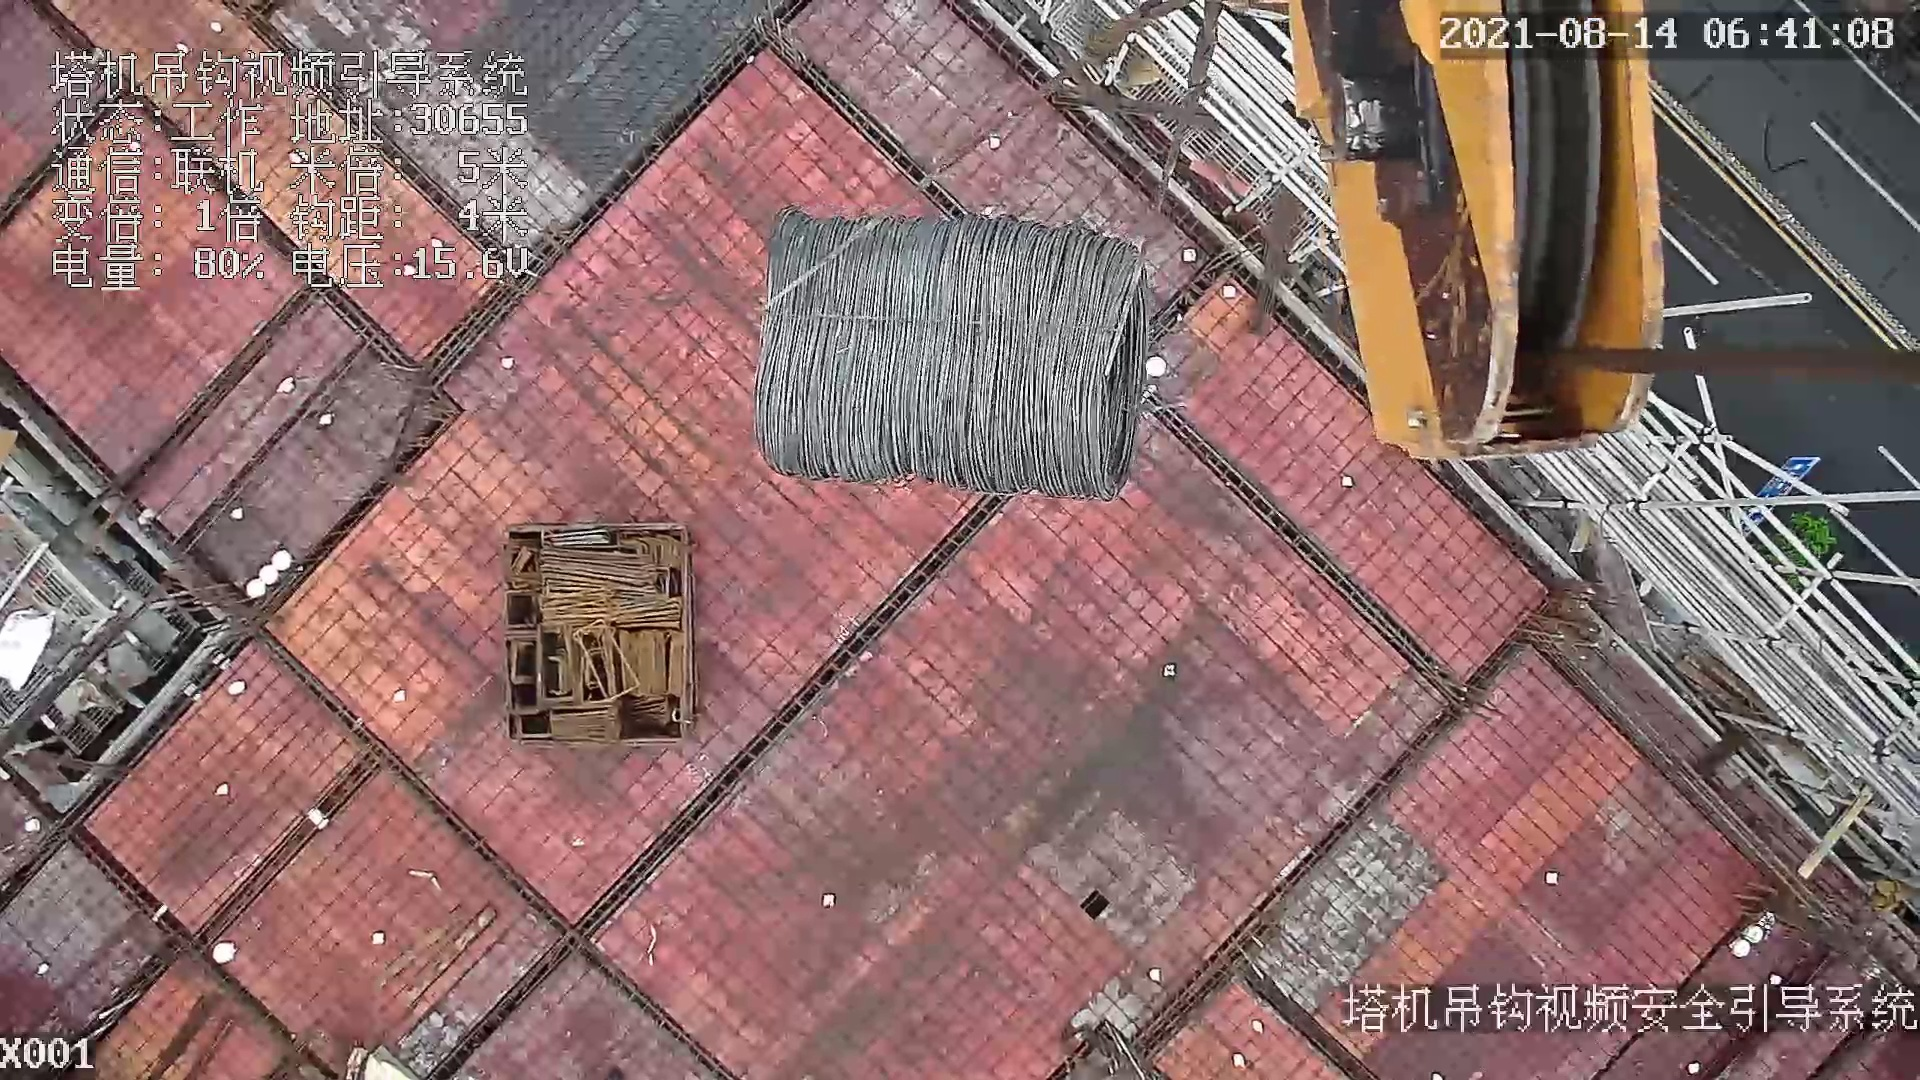hook: (1262, 1, 1663, 459)
